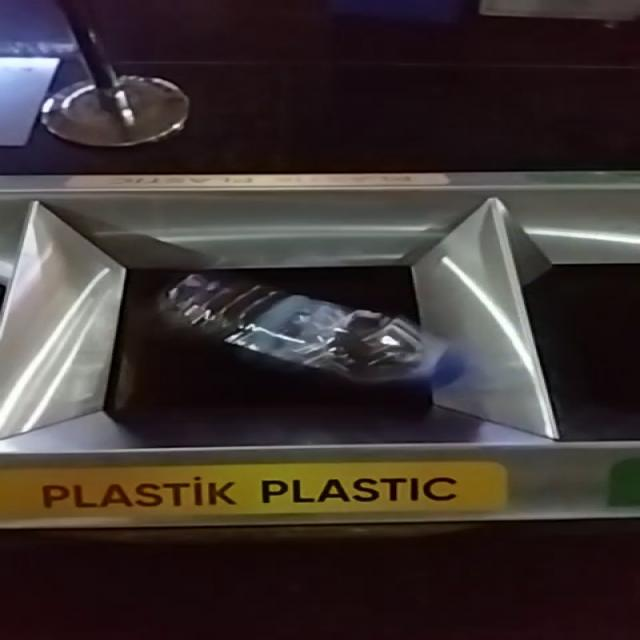plastic: (165, 274, 448, 384)
